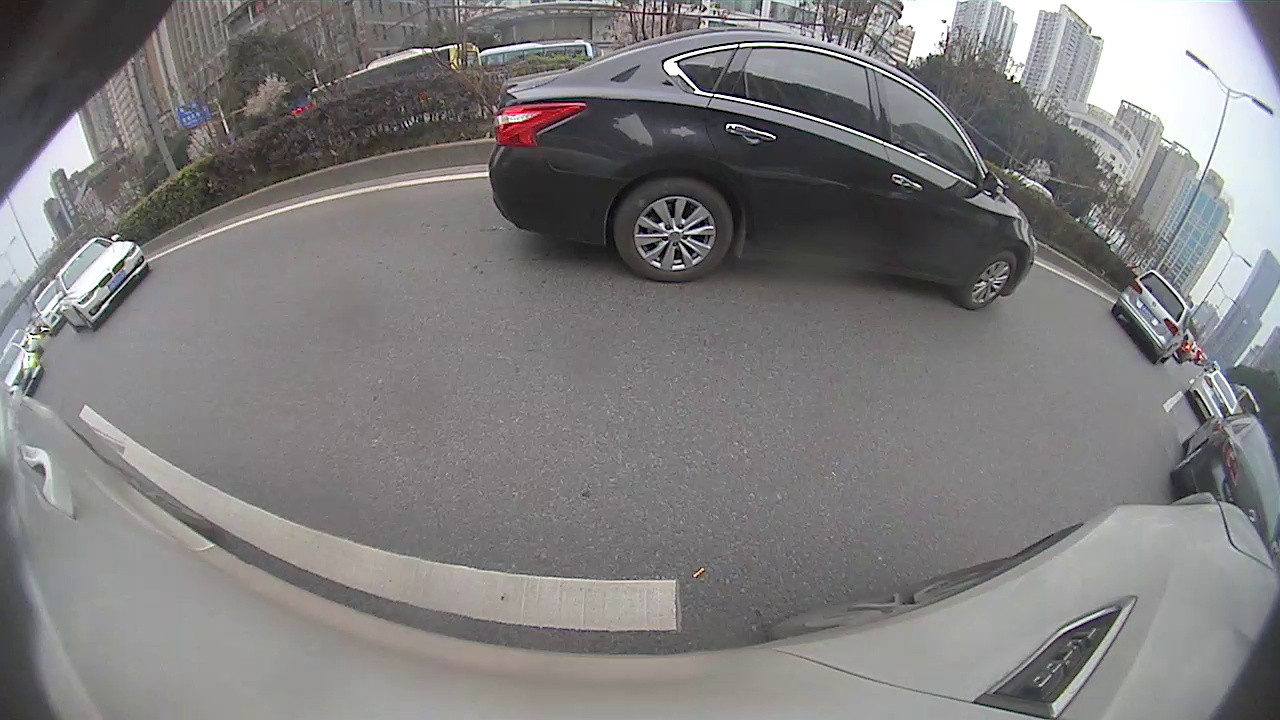car: (488, 28, 1038, 313), (1168, 403, 1279, 551), (53, 233, 149, 331), (1109, 267, 1192, 366), (1185, 365, 1237, 423)
front: (961, 251, 1018, 312)
rear: (617, 178, 730, 284)
